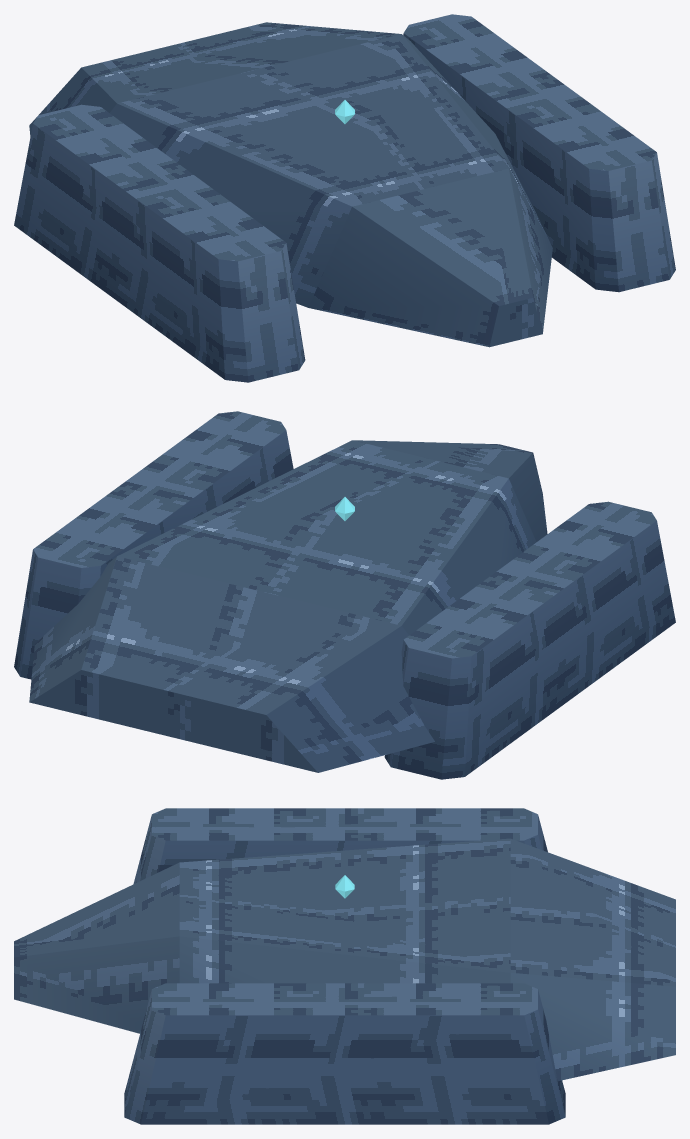
The model's file is cysky.cargo.glb.
The picture shows the model from 3 angles, top to bottom: view 1: azimuth 30°, elevation 25°; view 2: azimuth 150°, elevation 25°; view 3: azimuth 270°, elevation 25°; orthographic projection. The views are drawn at different scales.
Parts seen in each view (by area): view 1: kit_body; view 2: kit_body; view 3: kit_body.
Part boxes in pixels (x1,y1,x2,y2): kit_body: (14, 14, 675, 382); kit_body: (14, 411, 675, 779); kit_body: (14, 808, 675, 1124).
Bounding box in the file's own units: 3.65 × 1.15 × 4.8.
3 materials, 3 textured.
